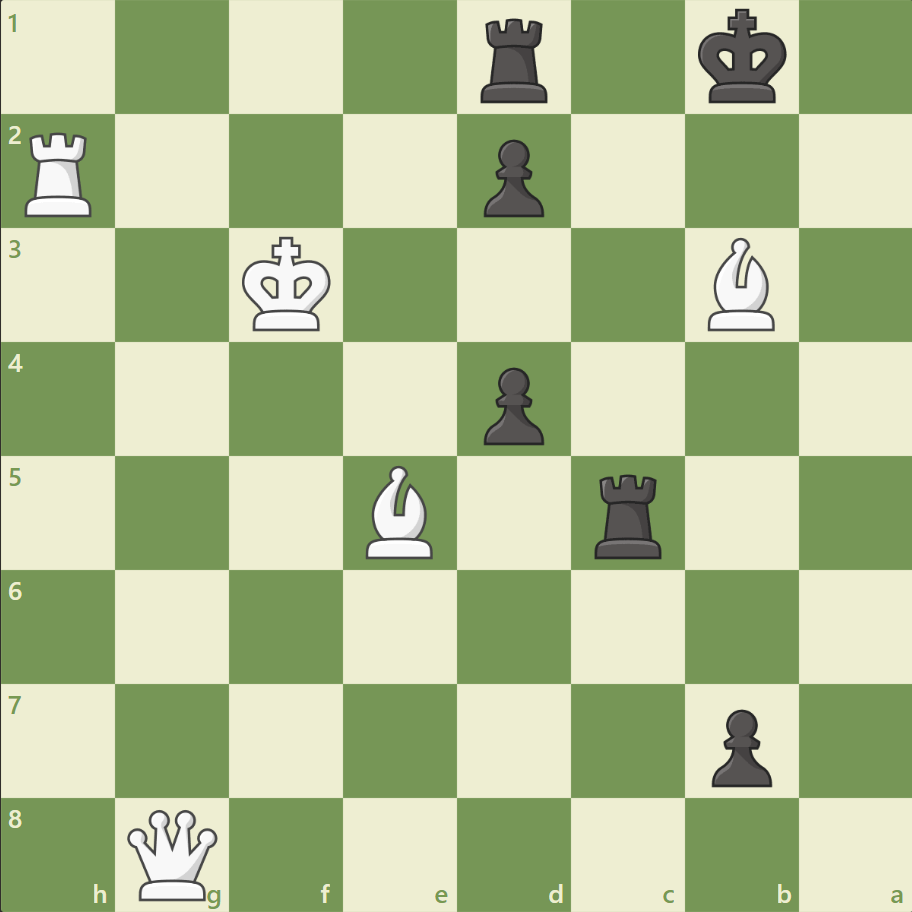B: (358, 460, 442, 563), (698, 233, 782, 336)
K: (238, 231, 338, 339)
Q: (124, 804, 223, 903)
R: (19, 125, 102, 222)
k: (692, 4, 792, 112)
p: (701, 700, 776, 791), (474, 359, 549, 450), (474, 132, 549, 223)
r: (587, 466, 670, 563), (473, 12, 556, 109)
